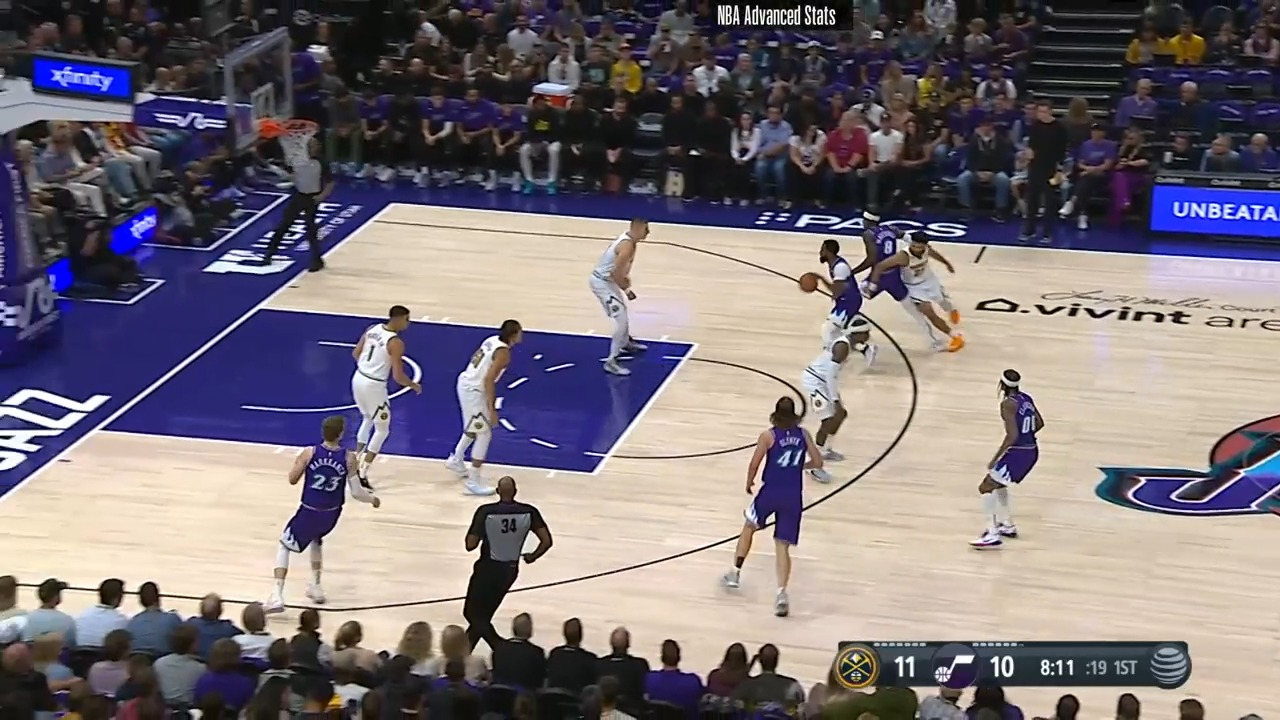net: (259, 113, 321, 167)
player: (722, 399, 821, 620), (273, 419, 375, 618), (348, 303, 426, 497), (446, 315, 527, 496), (977, 370, 1049, 555), (866, 231, 969, 359), (799, 318, 874, 481), (586, 216, 652, 386), (804, 239, 881, 376), (857, 208, 911, 328)
referee: (457, 475, 551, 644), (260, 126, 337, 275)
